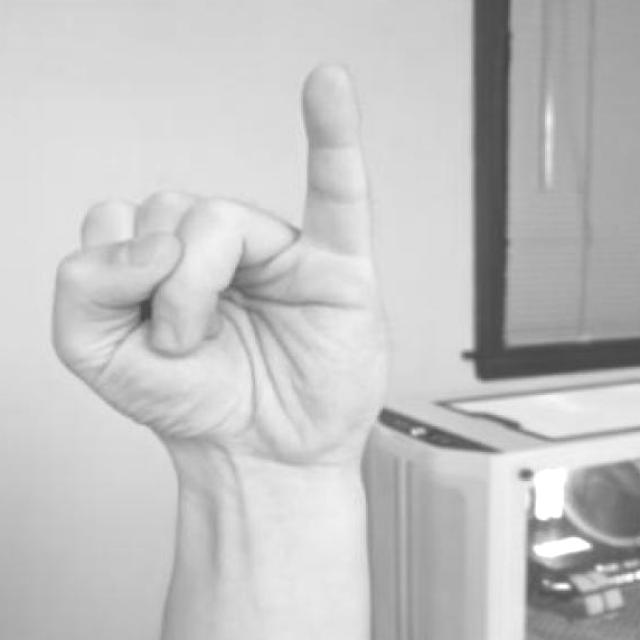I: (53, 57, 401, 517)
